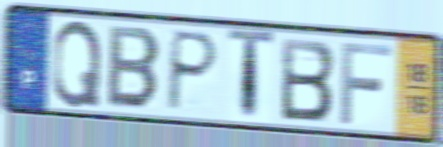B: (104, 22, 163, 113), (280, 35, 338, 124)
F: (338, 39, 395, 128)
P: (164, 27, 222, 114)
Q: (50, 18, 104, 110)
T: (225, 26, 277, 126)
